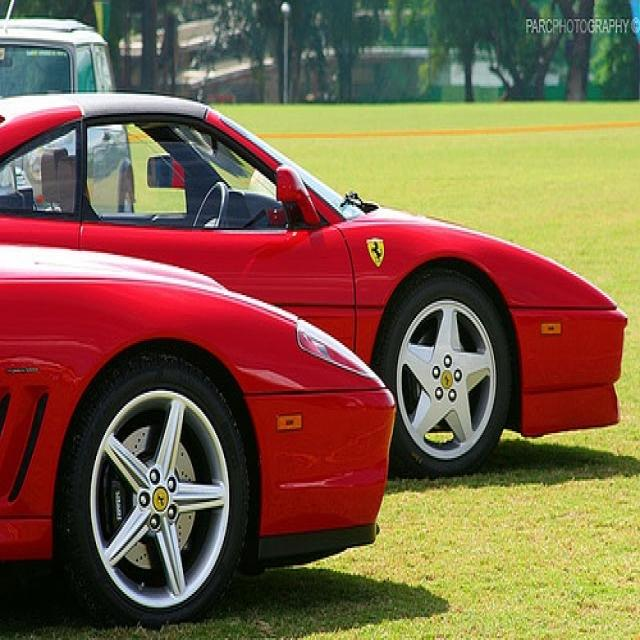car: (0, 88, 627, 479), (0, 244, 397, 628), (0, 15, 136, 215)
